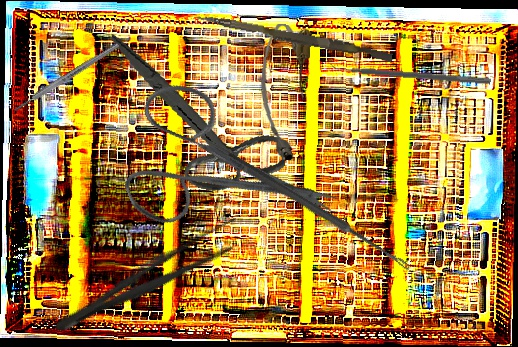Cannula: (254, 22, 313, 162)
Dressing Forceps: (47, 212, 250, 345)
Iris Scissors: (96, 42, 343, 280), (86, 32, 304, 204)
Pusher: (195, 13, 394, 63)
Scalpel Handle: (12, 41, 121, 114)
Spatula Surgical: (329, 60, 492, 85)
Surgical Spoon: (205, 141, 414, 272)
